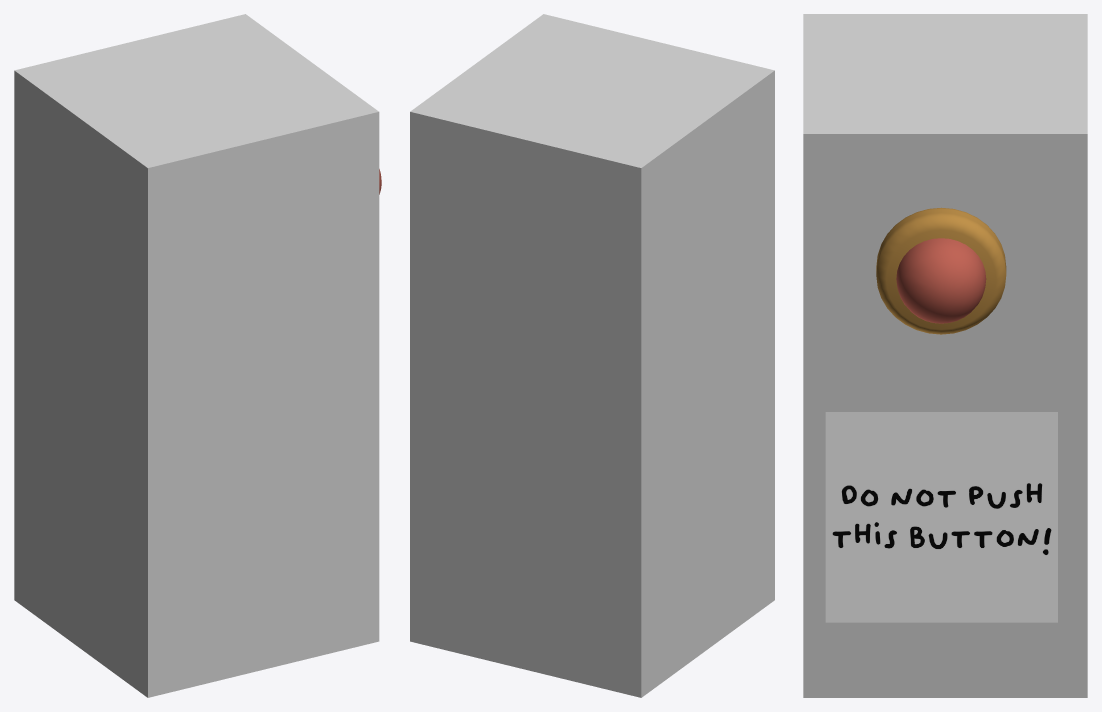
The model's file is meme_david_bottom.glb.
3 renders of one model, left to right at view 1: azimuth 30°, elevation 25°; view 2: azimuth 150°, elevation 25°; view 3: azimuth 270°, elevation 25°, orthographic. The views are drawn at different scales.
Visible parts, largest first — view 1: Cube.001; view 2: Cube.001; view 3: Cube.001, Plane, Cylinder.014, Sphere.
Part boxes in pixels (bbox=[...]): Cube.001: bbox=[14, 14, 379, 697]; Cube.001: bbox=[410, 14, 774, 697]; Cube.001: bbox=[803, 14, 1087, 697]; Plane: bbox=[825, 412, 1057, 622]; Cylinder.014: bbox=[876, 207, 1006, 334]; Sphere: bbox=[896, 238, 986, 323].
Size of the model in its own units: 0.5275 by 0.9112 by 0.4164.
Materials: 3 (1 with a texture image).
